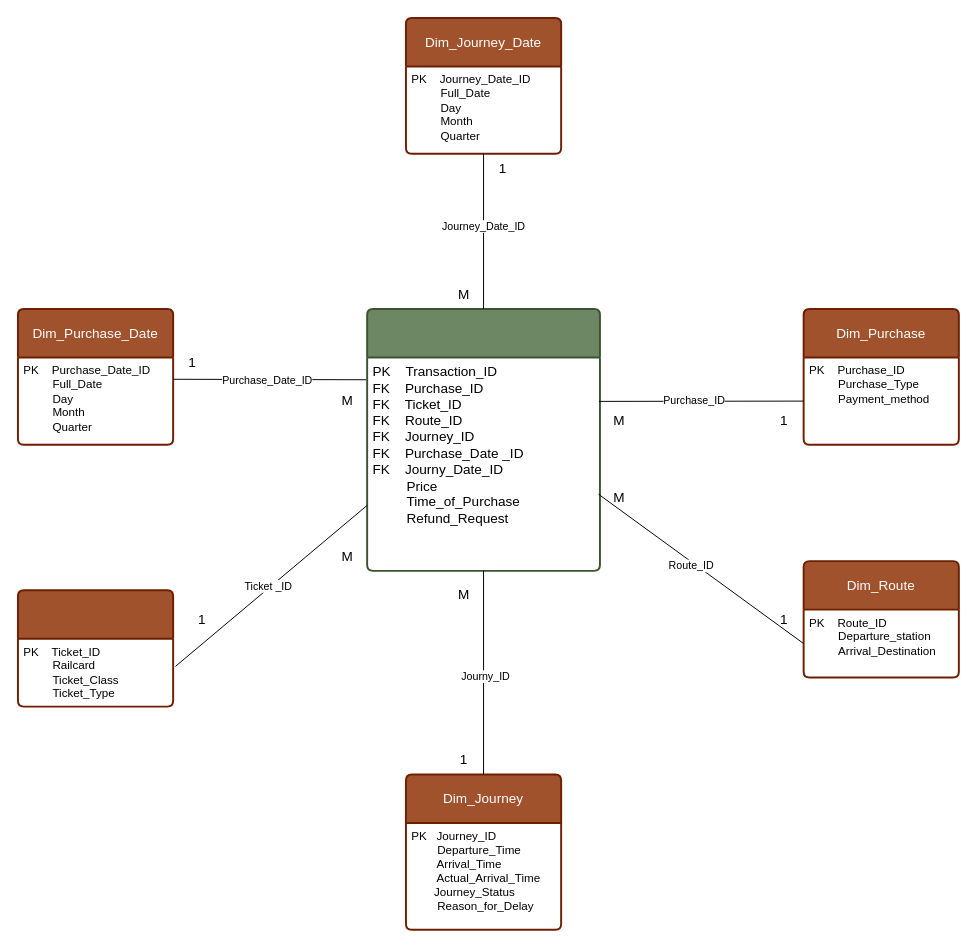
The diagram is 976 pixels wide and 947 high, and some of its shapes have lost their labels. Each missing label, with the box of its shape:
Dim_Ticket: (16, 589, 174, 707)
Fact_TrainRides: (366, 307, 600, 571)
